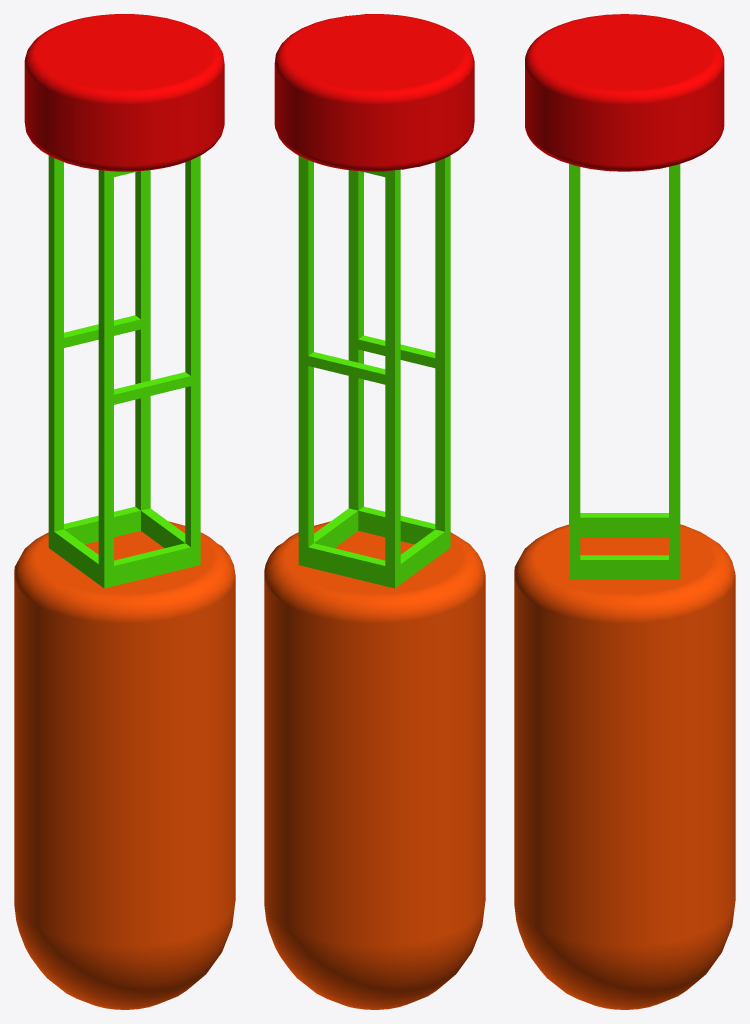
File: Bouy.gltf
3 renders of one model, left to right at view 1: azimuth 30°, elevation 25°; view 2: azimuth 150°, elevation 25°; view 3: azimuth 270°, elevation 25°, orthographic.
Parts seen in each view (by area): view 1: BuoyHull, BuoyFrame, BuoyTop; view 2: BuoyHull, BuoyFrame, BuoyTop; view 3: BuoyHull, BuoyTop, BuoyFrame.
Part boxes in pixels (bbox=[...]): BuoyHull: bbox=[14, 521, 235, 1009]; BuoyFrame: bbox=[48, 155, 200, 588]; BuoyTop: bbox=[24, 14, 224, 171]; BuoyHull: bbox=[264, 521, 485, 1009]; BuoyFrame: bbox=[298, 155, 450, 588]; BuoyTop: bbox=[274, 14, 474, 171]; BuoyHull: bbox=[514, 524, 735, 1009]; BuoyTop: bbox=[525, 14, 724, 171]; BuoyFrame: bbox=[569, 164, 680, 579].
Size of the model in its own units: 0.4992 by 2.35 by 0.4983.
